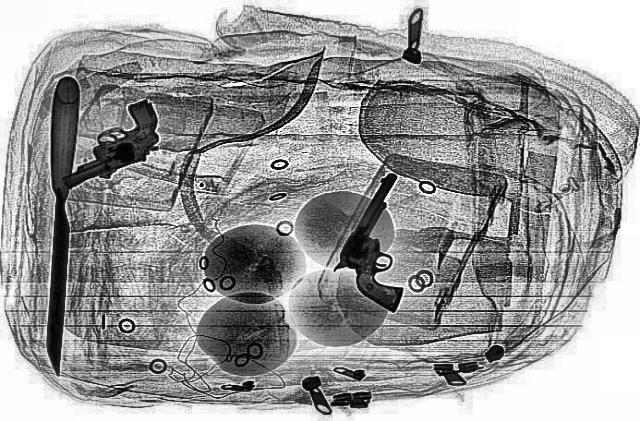Gun: (308, 171, 470, 313), (20, 98, 192, 190)
Knife: (40, 75, 78, 375)
